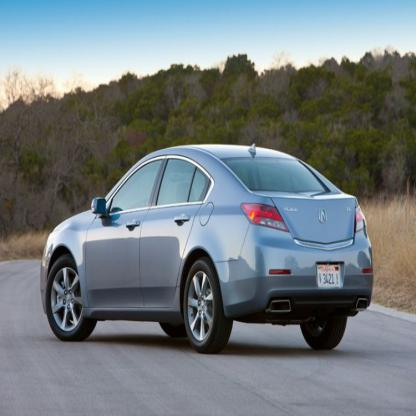Vehicle: (40, 144, 374, 356)
